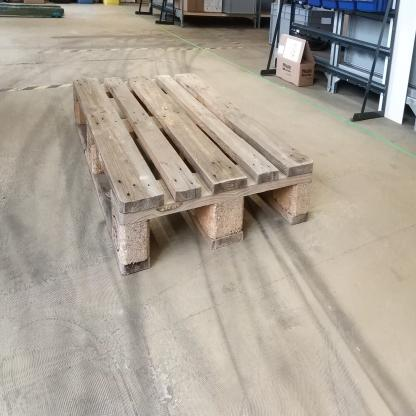BoxFace: (72, 69, 316, 281)
